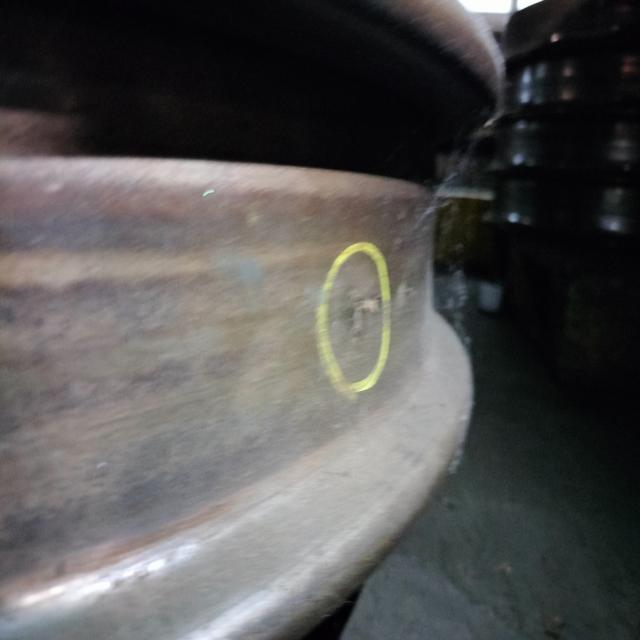Blue hole: (341, 291, 383, 351)
